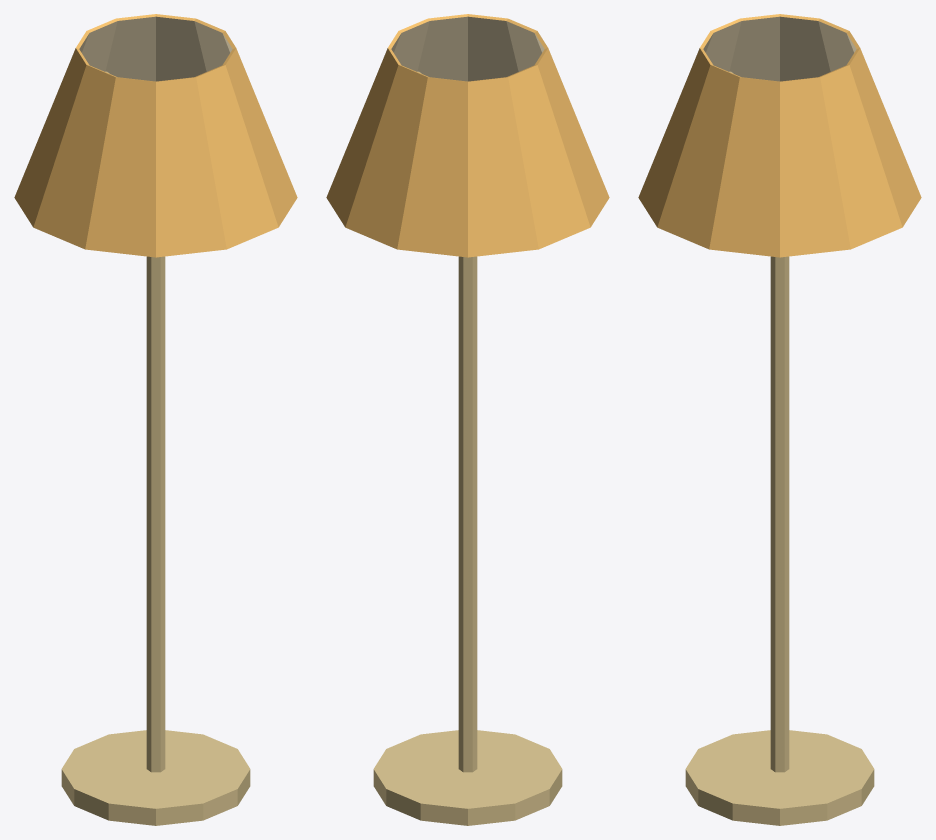
File: floor_lamp.glb
3 renders of one model, left to right at view 1: azimuth 30°, elevation 25°; view 2: azimuth 150°, elevation 25°; view 3: azimuth 270°, elevation 25°, orthographic.
Visible parts, largest first — view 1: floor_lamp; view 2: floor_lamp; view 3: floor_lamp.
Boxes of the visible parts, bbox=[...] form: floor_lamp: bbox=[14, 14, 297, 825]; floor_lamp: bbox=[326, 14, 609, 825]; floor_lamp: bbox=[638, 14, 921, 825].
Size of the model in its own units: 0.6 by 1.72 by 0.6.
